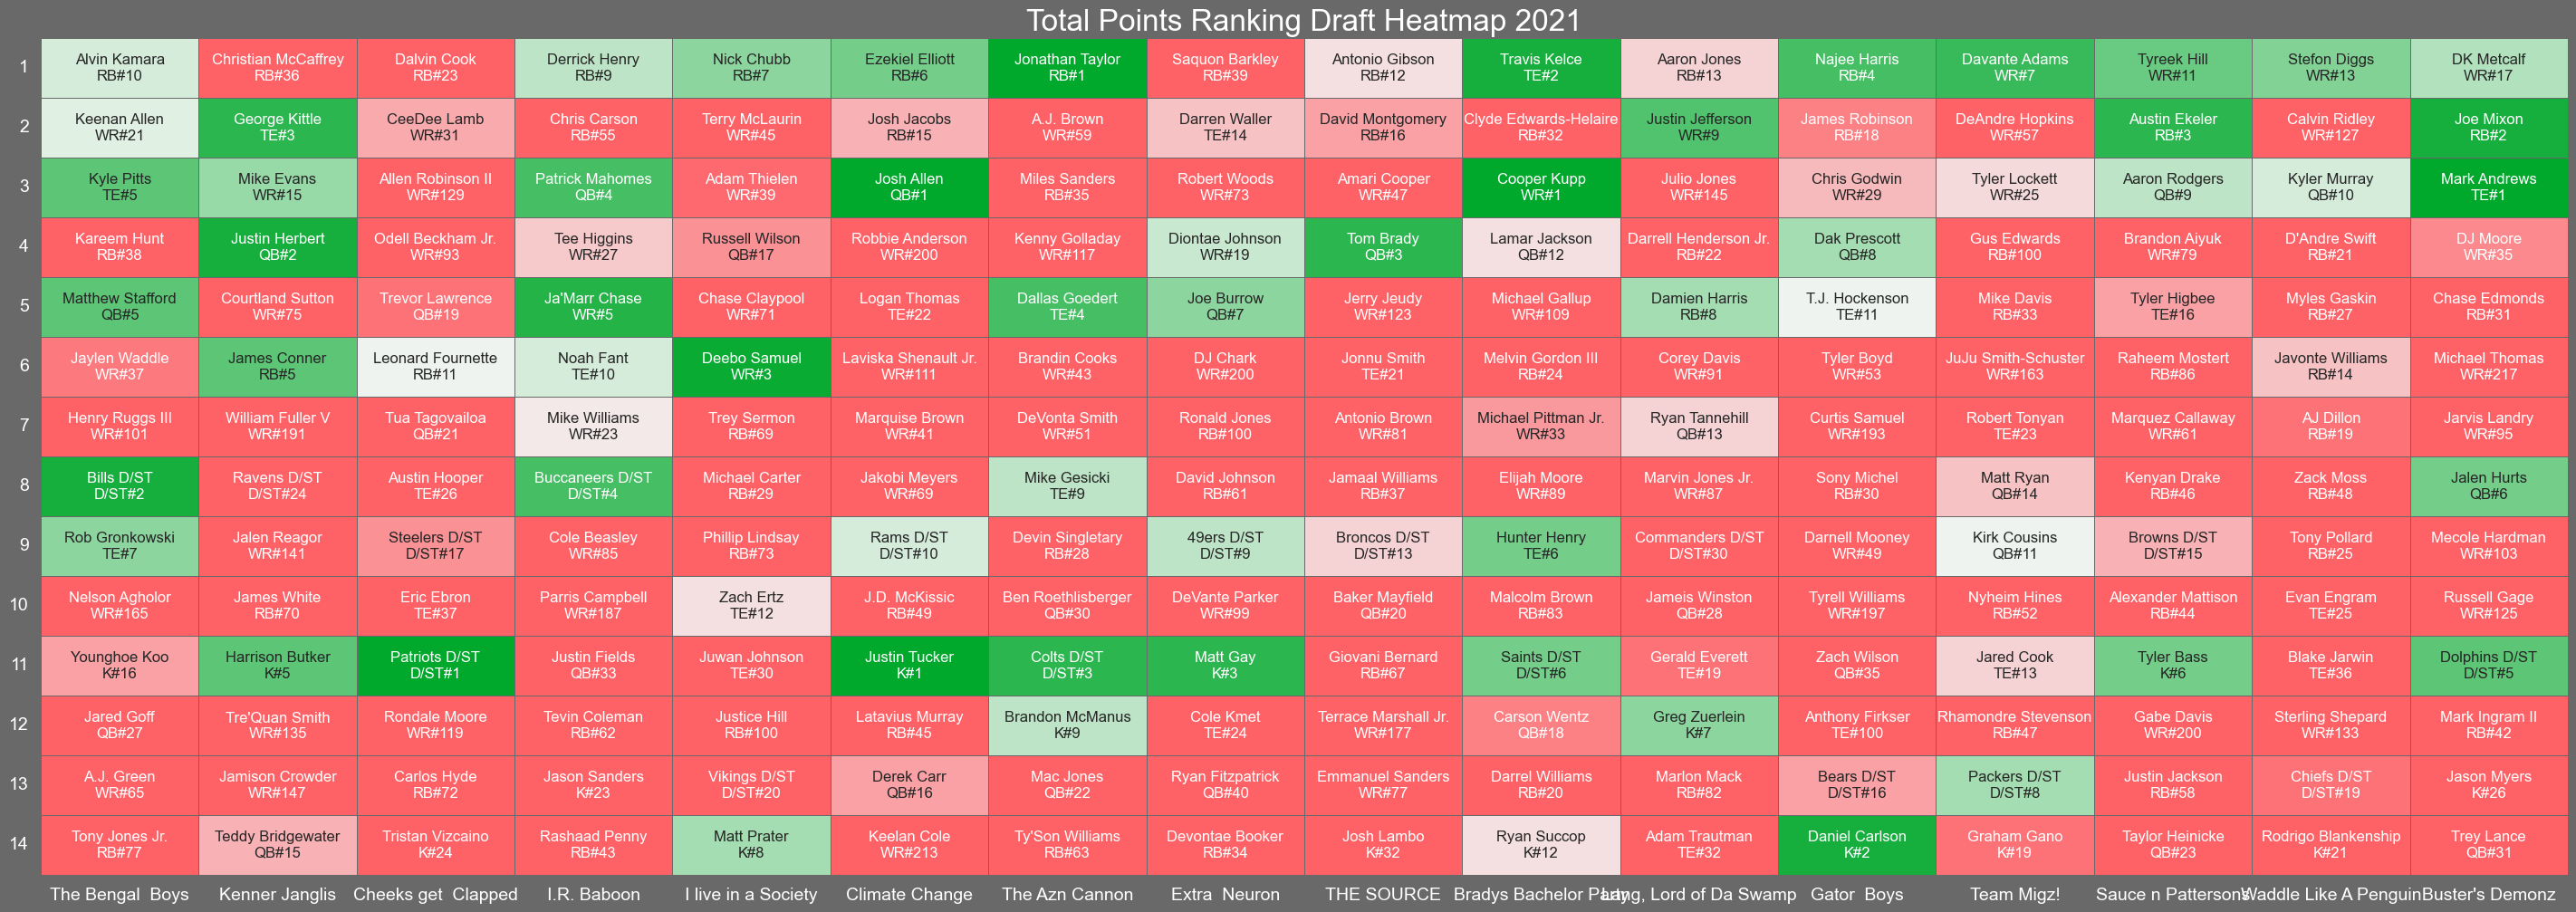

What the dashboard file says about the page in this screenshot:
{"tool":"powerbi","page":{"name":"Page 3","canvas":[1280,720],"ordinal":2},"visuals":[{"type":"pivotTable","fields":{"Rows":["Query1.round","Query1.playername"],"Columns":["Query1.pick"],"Values":["Sum(Query1.total)"]},"box":[0,0,1280,720],"z":1}]}

Visuals, with their boxes on the page's 1280x720 design canvas (x1, y1, x2, y2). These are canvas units, not pixel positions in the 2576x912 screenshot, which may show the page scaled, cropped or inside an application window:
pivotTable - Query1.round x Query1.playername: <region>0, 0, 1280, 720</region>
